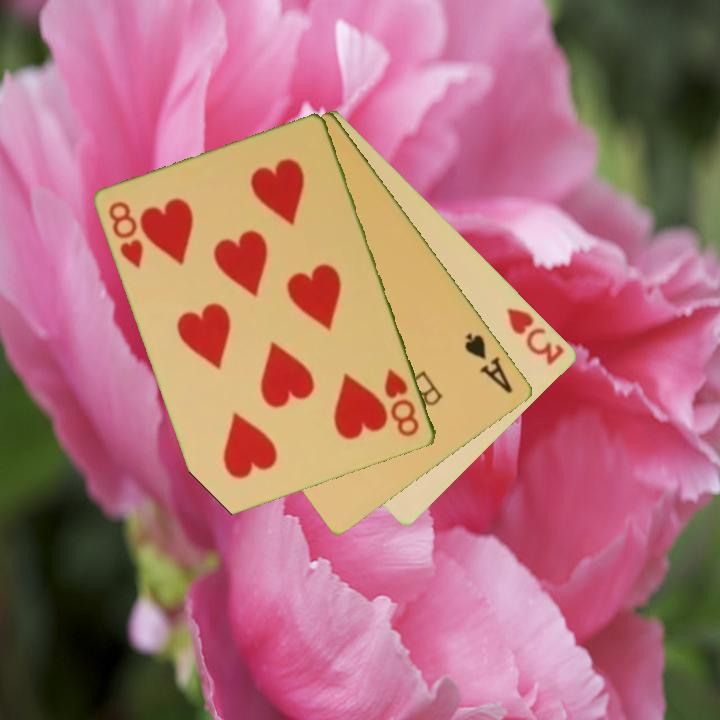3h: (504, 304, 568, 369)
8h: (381, 365, 423, 440), (105, 198, 147, 271)
As: (461, 329, 516, 397)
